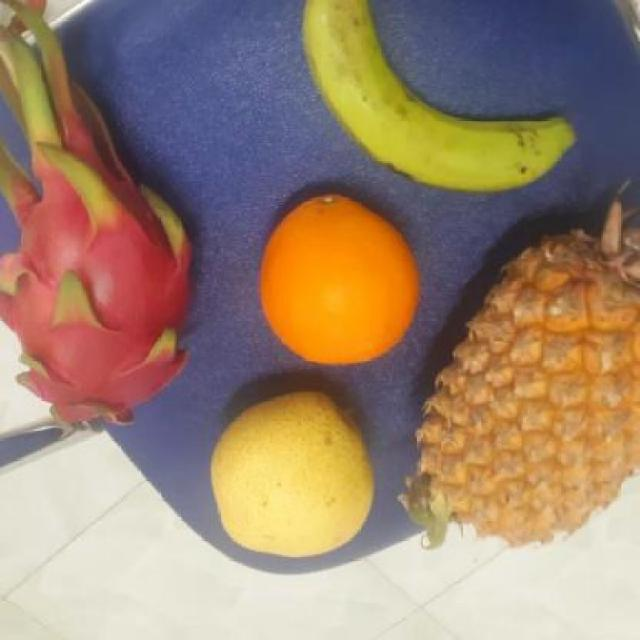banana: (300, 1, 574, 201)
dragon fruit: (0, 155, 191, 423)
oren: (251, 196, 418, 370)
pear: (205, 394, 373, 568)
